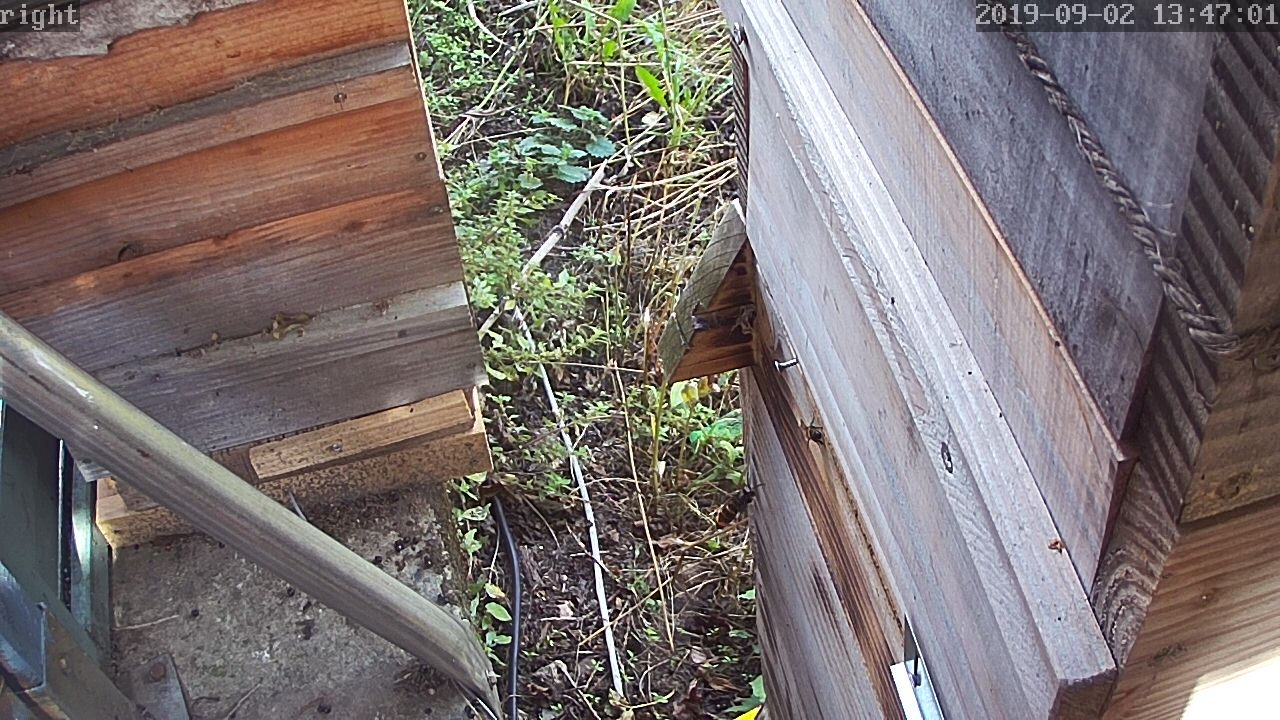bee: (798, 416, 829, 446)
hornet: (709, 478, 762, 529)
